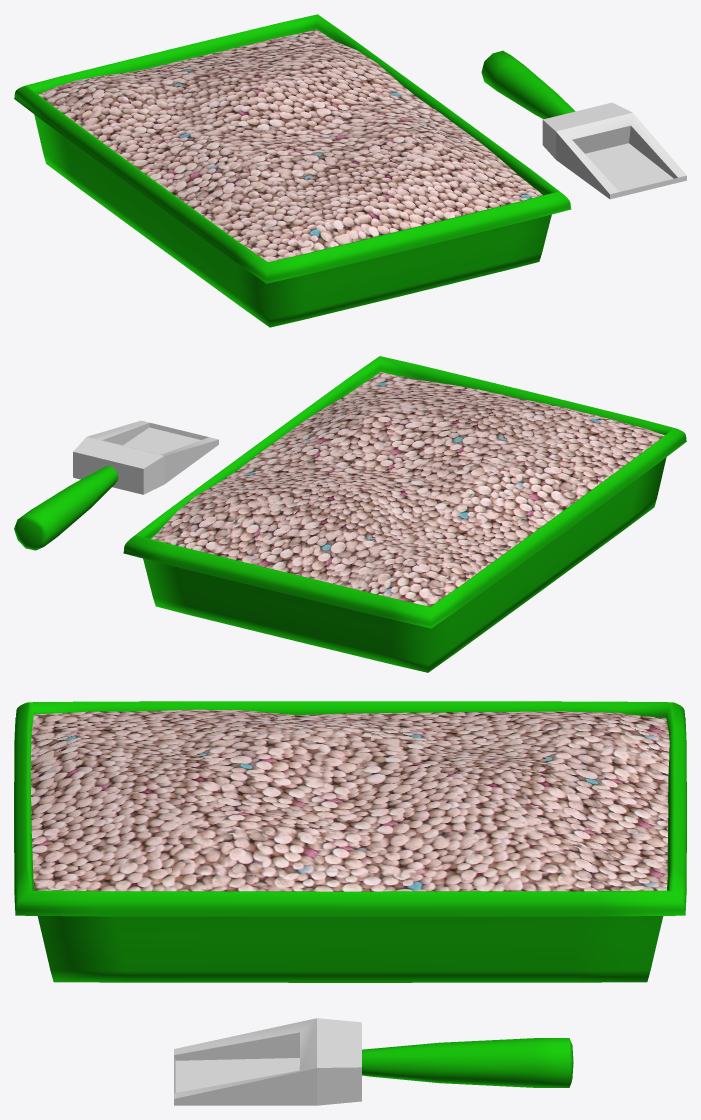
Rendered from maosha.FBX.
3 views of the same model, one above another, from view 1: azimuth 30°, elevation 25°; view 2: azimuth 150°, elevation 25°; view 3: azimuth 270°, elevation 25° (orthographic). The views are drawn at different scales.
Parts seen in each view (by area): view 1: Plane010, Box003, Box004, Cylinder002; view 2: Plane010, Box003, Box004, Cylinder002; view 3: Plane010, Box003, Box004, Cylinder002.
Part boxes in pixels (<box>): Plane010: <box>38,29,542,262</box>; Box003: <box>14,14,571,327</box>; Box004: <box>542,102,686,199</box>; Cylinder002: <box>481,50,575,119</box>; Plane010: <box>151,372,664,606</box>; Box003: <box>123,356,686,672</box>; Box004: <box>73,420,218,494</box>; Cylinder002: <box>14,466,118,550</box>; Plane010: <box>30,709,669,891</box>; Box003: <box>14,701,686,982</box>; Box004: <box>174,1018,361,1105</box>; Cylinder002: <box>362,1038,573,1087</box>.
Bounding box in the file's own units: 57.19 × 11.06 × 52.25.
2 materials, 1 textured.
